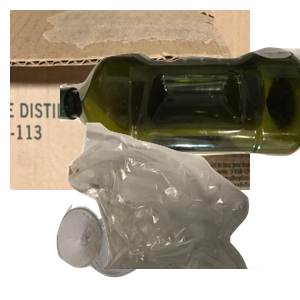cardboard: (10, 10, 250, 190)
glass: (54, 202, 193, 300)
plastic: (60, 44, 300, 195)
trash: (65, 120, 300, 300)
